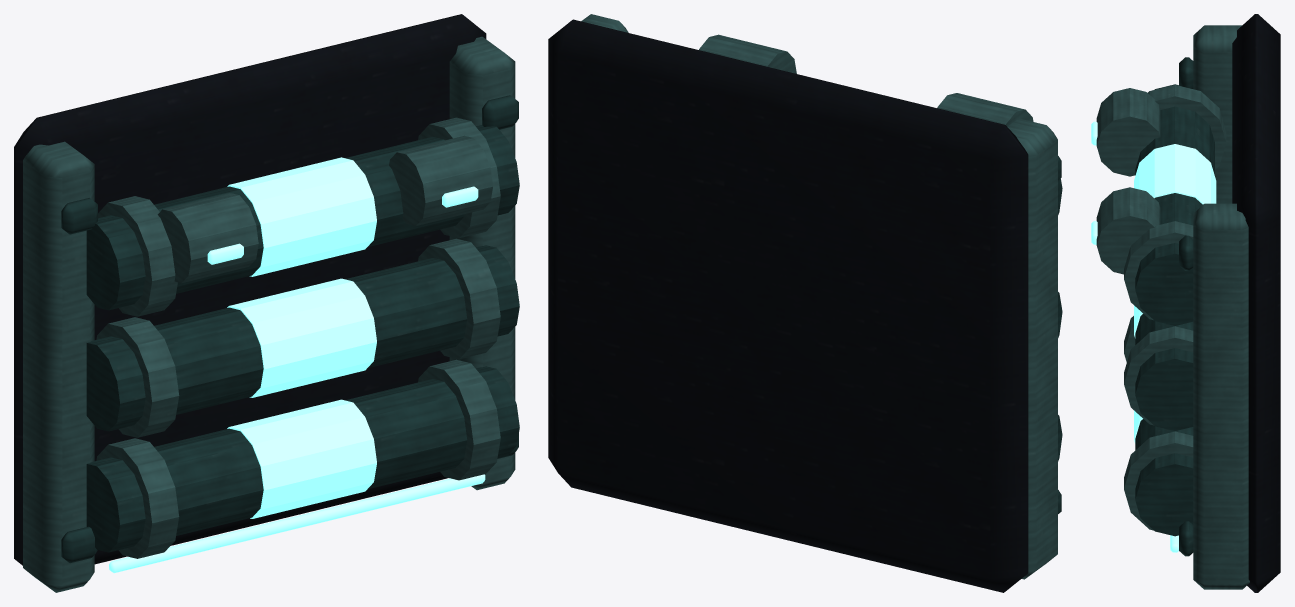
Rendered from abyssal_plant_fixture.glb.
The picture shows the model from 3 angles, left to right: view 1: azimuth 30°, elevation 25°; view 2: azimuth 150°, elevation 25°; view 3: azimuth 270°, elevation 25°; orthographic projection. The views are drawn at different scales.
Parts seen in each view (by area): view 1: abyssal_plant_fixture - abyssal_plant trim, abyssal_plant_fixture - Recessed iron, abyssal_plant_fixture - abyssal_plant panels, abyssal_plant_fixture - abyssal_plant accents; view 2: abyssal_plant_fixture - Recessed iron, abyssal_plant_fixture - abyssal_plant trim; view 3: abyssal_plant_fixture - abyssal_plant trim, abyssal_plant_fixture - Recessed iron, abyssal_plant_fixture - abyssal_plant panels, abyssal_plant_fixture - abyssal_plant accents.
Part boxes in pixels (<box>): abyssal_plant_fixture - abyssal_plant trim: <box>23,36,515,592</box>; abyssal_plant_fixture - Recessed iron: <box>14,14,486,565</box>; abyssal_plant_fixture - abyssal_plant panels: <box>61,95,519,563</box>; abyssal_plant_fixture - abyssal_plant accents: <box>109,157,485,573</box>; abyssal_plant_fixture - Recessed iron: <box>548,19,1028,592</box>; abyssal_plant_fixture - abyssal_plant trim: <box>581,14,1057,579</box>; abyssal_plant_fixture - abyssal_plant trim: <box>1096,25,1249,589</box>; abyssal_plant_fixture - Recessed iron: <box>1232,14,1280,592</box>; abyssal_plant_fixture - abyssal_plant panels: <box>1135,57,1214,556</box>; abyssal_plant_fixture - abyssal_plant accents: <box>1091,121,1216,552</box>.
Bounding box in the file's own units: 3.13 × 2.92 × 1.26.
4 materials, 3 textured.
